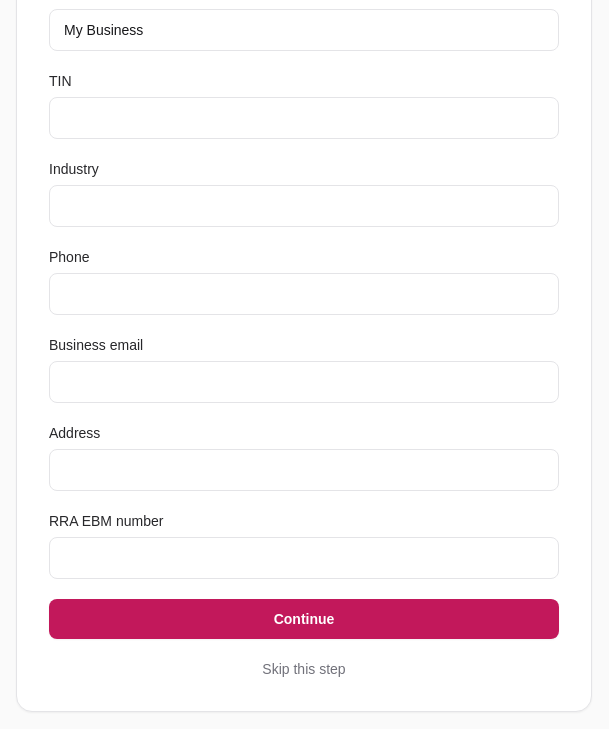
Scenario: Onboarding › moves to the logo step after the details step completes
(page scrolled)
Click the button "Skip this step" at (304, 669), box [262,659,346,679]
(page scrolled)
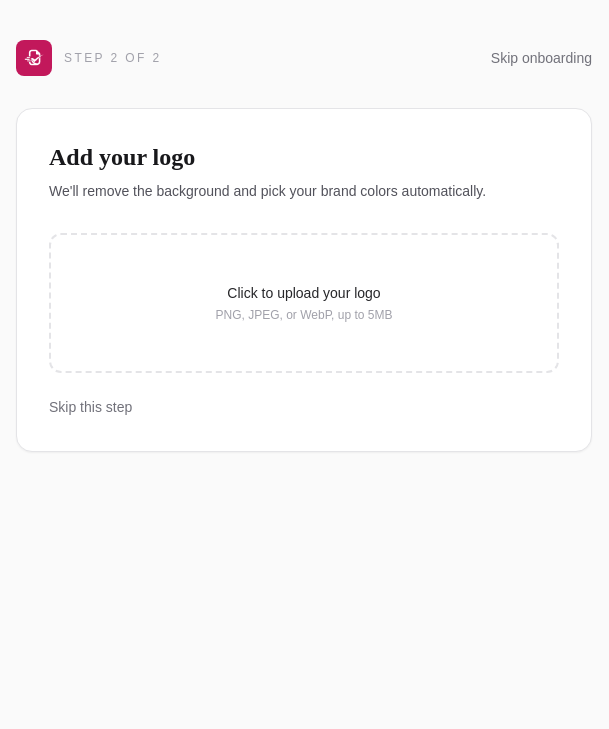
Result: the text "Step 2 of 2" is shown at [64,50,162,66]
Result: the heading "Add your logo" is shown at [49,144,195,170]
